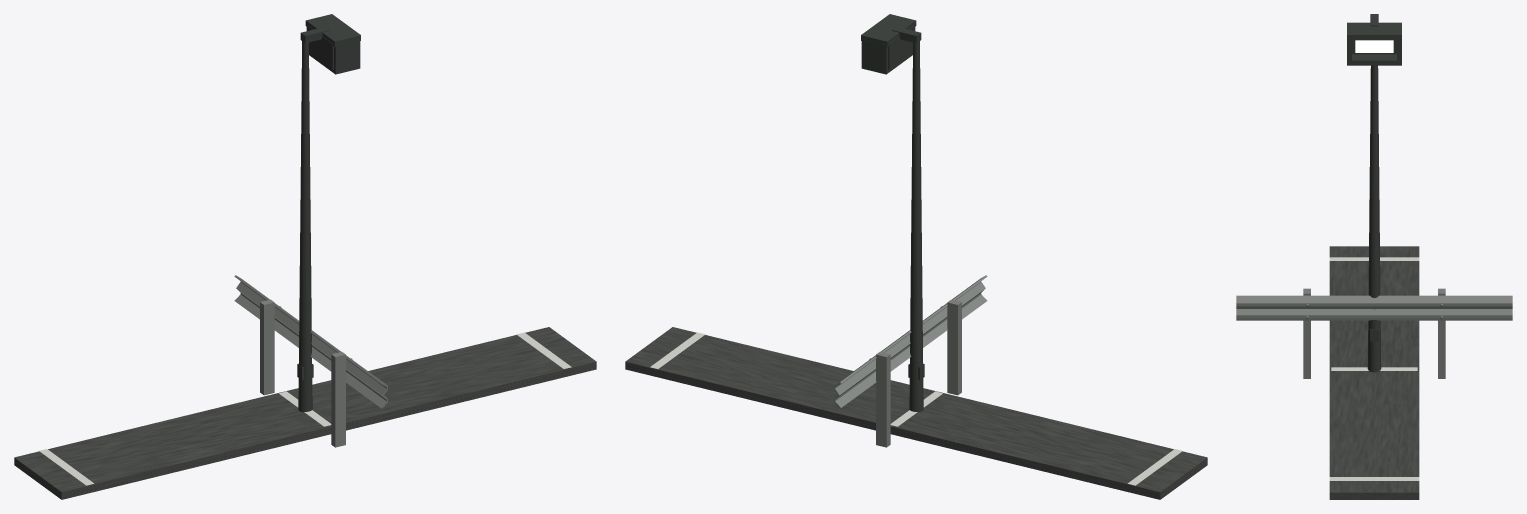
The model's file is cut-roadside.glb.
3 renders of one model, left to right at view 1: azimuth 30°, elevation 25°; view 2: azimuth 150°, elevation 25°; view 3: azimuth 270°, elevation 25°, orthographic. The views are drawn at different scales.
Visible parts, largest first — view 1: drive_plain_paving, cut_inspection_lamp, cut_guardrail, drive_uk_edge_markings; view 2: drive_plain_paving, cut_inspection_lamp, cut_guardrail, drive_uk_edge_markings; view 3: drive_plain_paving, cut_guardrail, cut_inspection_lamp, drive_uk_edge_markings.
Part boxes in pixels (x1,y1,x2,y2): drive_plain_paving: (14, 327, 596, 499); cut_inspection_lamp: (297, 14, 360, 412); cut_guardrail: (234, 275, 387, 447); drive_uk_edge_markings: (39, 332, 571, 485); drive_plain_paving: (625, 327, 1207, 499); cut_inspection_lamp: (861, 14, 924, 412); cut_guardrail: (834, 275, 987, 447); drive_uk_edge_markings: (650, 332, 1182, 485); drive_plain_paving: (1329, 246, 1419, 499); cut_guardrail: (1236, 288, 1512, 378); cut_inspection_lamp: (1347, 14, 1401, 372); drive_uk_edge_markings: (1329, 257, 1419, 480).
Bounding box in the file's own units: 6.5 × 4.46 × 3.08.
Materials: 5 (1 with a texture image).
